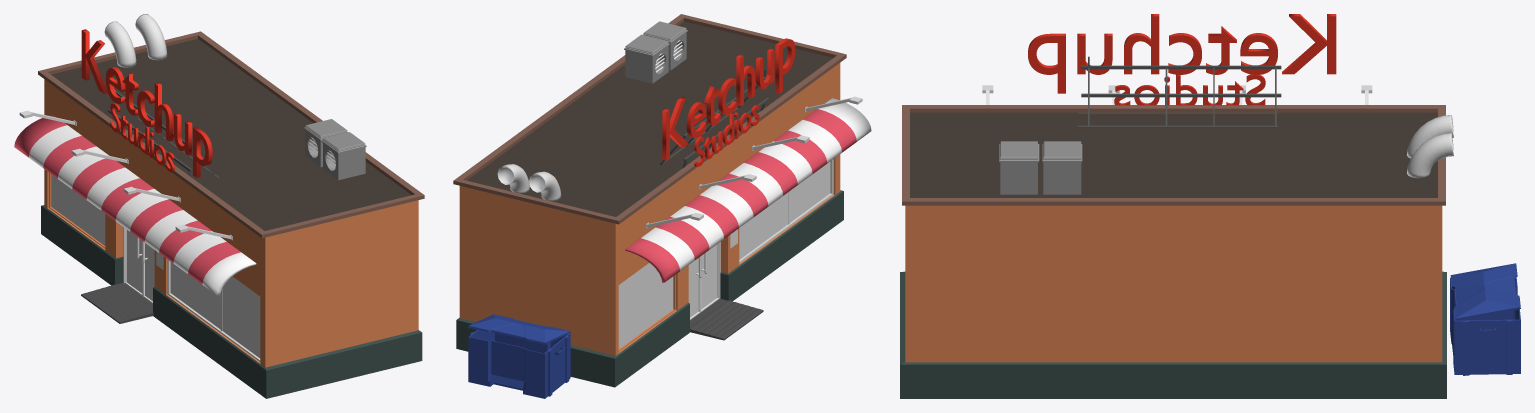
Rendered from Tienda 6.fbx.
The picture shows the model from 3 angles, left to right: view 1: azimuth 30°, elevation 25°; view 2: azimuth 150°, elevation 25°; view 3: azimuth 270°, elevation 25°; orthographic projection. The views are drawn at different scales.
Visible parts, largest first — view 1: Cube.064, Circle.008, Cube.063, Cube.061, Text.002, Cube.062, Cube.048, Text.003, Cube.049, Circle.006, Circle.007, Cube.058 (+2 smaller); view 2: Cube.064, Circle.008, Cube.063, Cube.047, Text.002, Cube.061, Cube.062, Cube.049, Cube.046, Text.003, Cube.048, Cube.055 (+4 smaller); view 3: Cube.064, Cube.063, Text.002, Cube.047, Cube.045, Cube.046, Cube.049, Cube.048, Text.003, Circle.007, Circle.006.
Boxes of the visible parts, <box> form: Cube.064: <box>41,38,422,398</box>; Circle.008: <box>14,114,256,296</box>; Cube.063: <box>38,31,424,238</box>; Cube.061: <box>167,259,260,361</box>; Text.002: <box>81,29,212,177</box>; Cube.062: <box>81,283,153,323</box>; Cube.048: <box>321,132,366,180</box>; Text.003: <box>110,103,174,172</box>; Cube.049: <box>304,119,347,166</box>; Circle.006: <box>104,21,136,67</box>; Circle.007: <box>135,14,167,60</box>; Cube.058: <box>126,229,142,293</box>; Cube.064: <box>456,21,843,387</box>; Circle.008: <box>625,98,871,282</box>; Cube.063: <box>453,14,846,224</box>; Cube.047: <box>468,329,570,398</box>; Text.002: <box>662,38,795,160</box>; Cube.061: <box>739,159,833,263</box>; Cube.062: <box>690,298,763,340</box>; Cube.049: <box>624,34,669,83</box>; Cube.046: <box>468,314,570,344</box>; Text.003: <box>694,105,759,166</box>; Cube.048: <box>643,21,687,70</box>; Cube.055: <box>701,244,717,309</box>; Cube.064: <box>900,112,1446,398</box>; Cube.063: <box>902,105,1445,205</box>; Text.002: <box>1028,14,1336,93</box>; Cube.047: <box>1450,277,1520,375</box>; Cube.045: <box>1078,56,1281,127</box>; Cube.046: <box>1450,263,1520,320</box>; Cube.049: <box>1042,141,1082,194</box>; Cube.048: <box>999,141,1039,194</box>; Text.003: <box>1114,74,1265,105</box>; Circle.007: <box>1407,133,1453,178</box>; Circle.006: <box>1407,115,1453,158</box>.
Size of the model in its own units: 1555 by 1677 by 3258.
